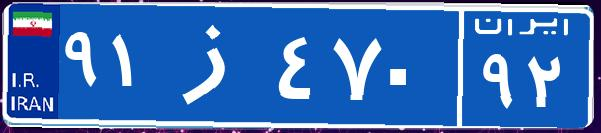0: (385, 28, 445, 110)
1: (110, 28, 158, 105)
2: (525, 38, 570, 115)
4: (273, 28, 330, 110)
7: (330, 28, 385, 110)
9: (57, 26, 110, 107), (475, 38, 525, 113)
ز: (158, 15, 273, 115)
